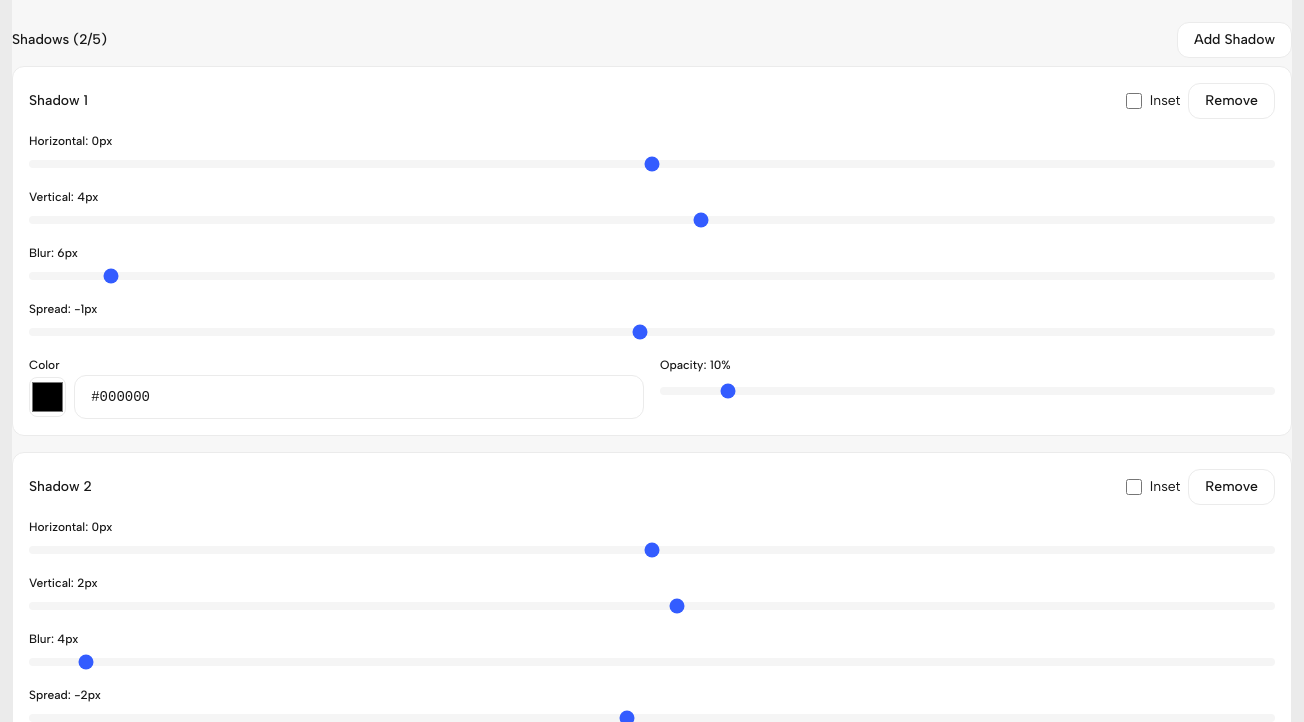
Scenario: BoxShadowGeneratorTool › adds shadow when Add Shadow is clicked
The image size is (1304, 722).
Click the button "Add Shadow".
click(1234, 40)  # box [1177,22,1292,58]
(page scrolled)
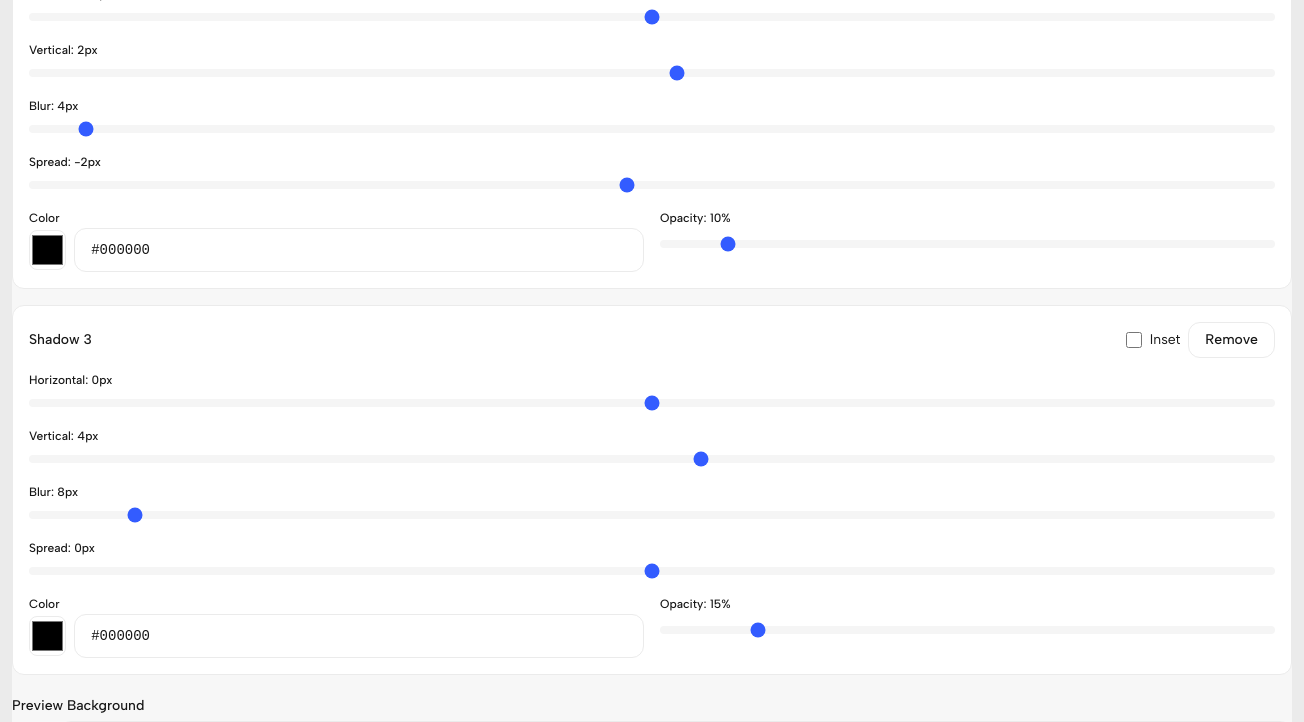
Check: the text "Shadow 3" is shown, box [29,330,92,350]
